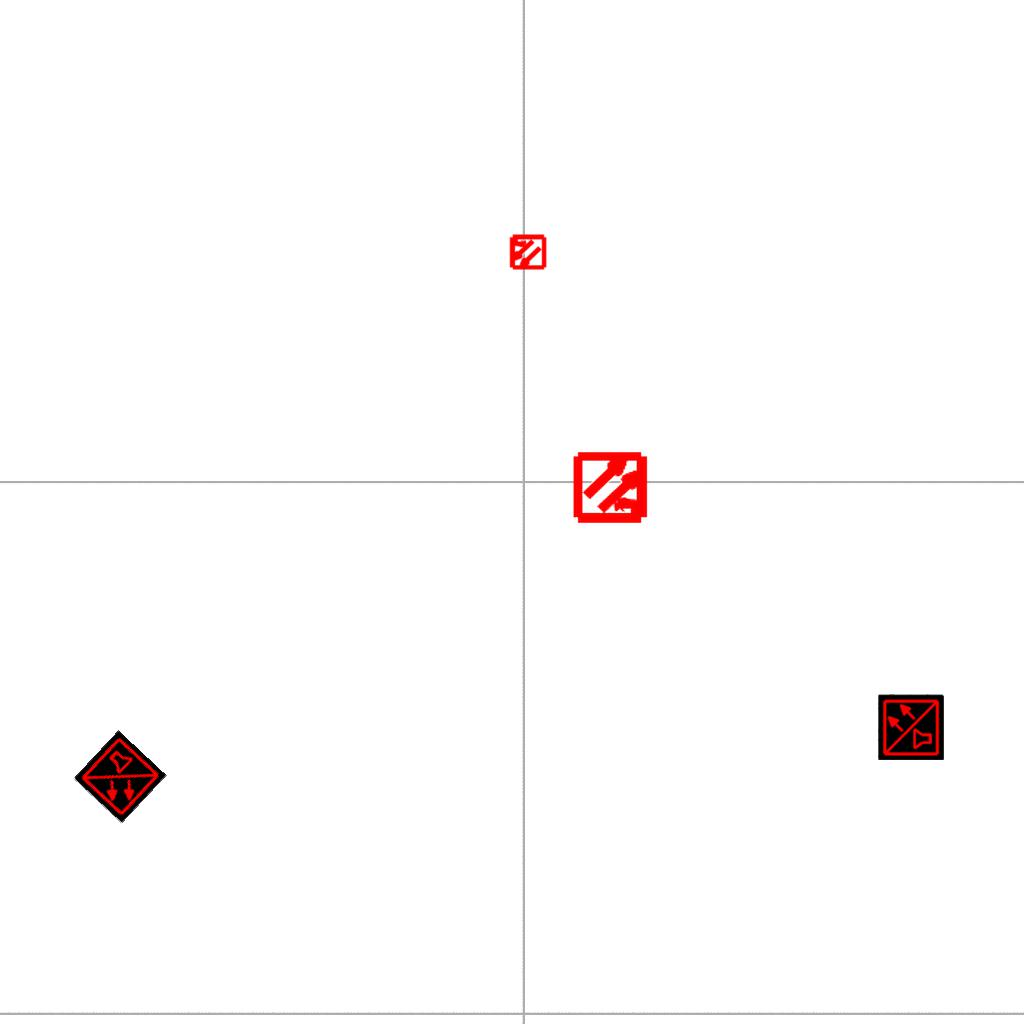OKW_Multisensormelder_(Kombination_optischer_Rauch-Kahlenmonoxid_Waerme-Melder): (73, 730, 167, 824), (878, 694, 944, 760)
OT_Multisensormelder_(Kombination_RMO_WMD): (556, 431, 669, 544), (499, 224, 555, 280)
